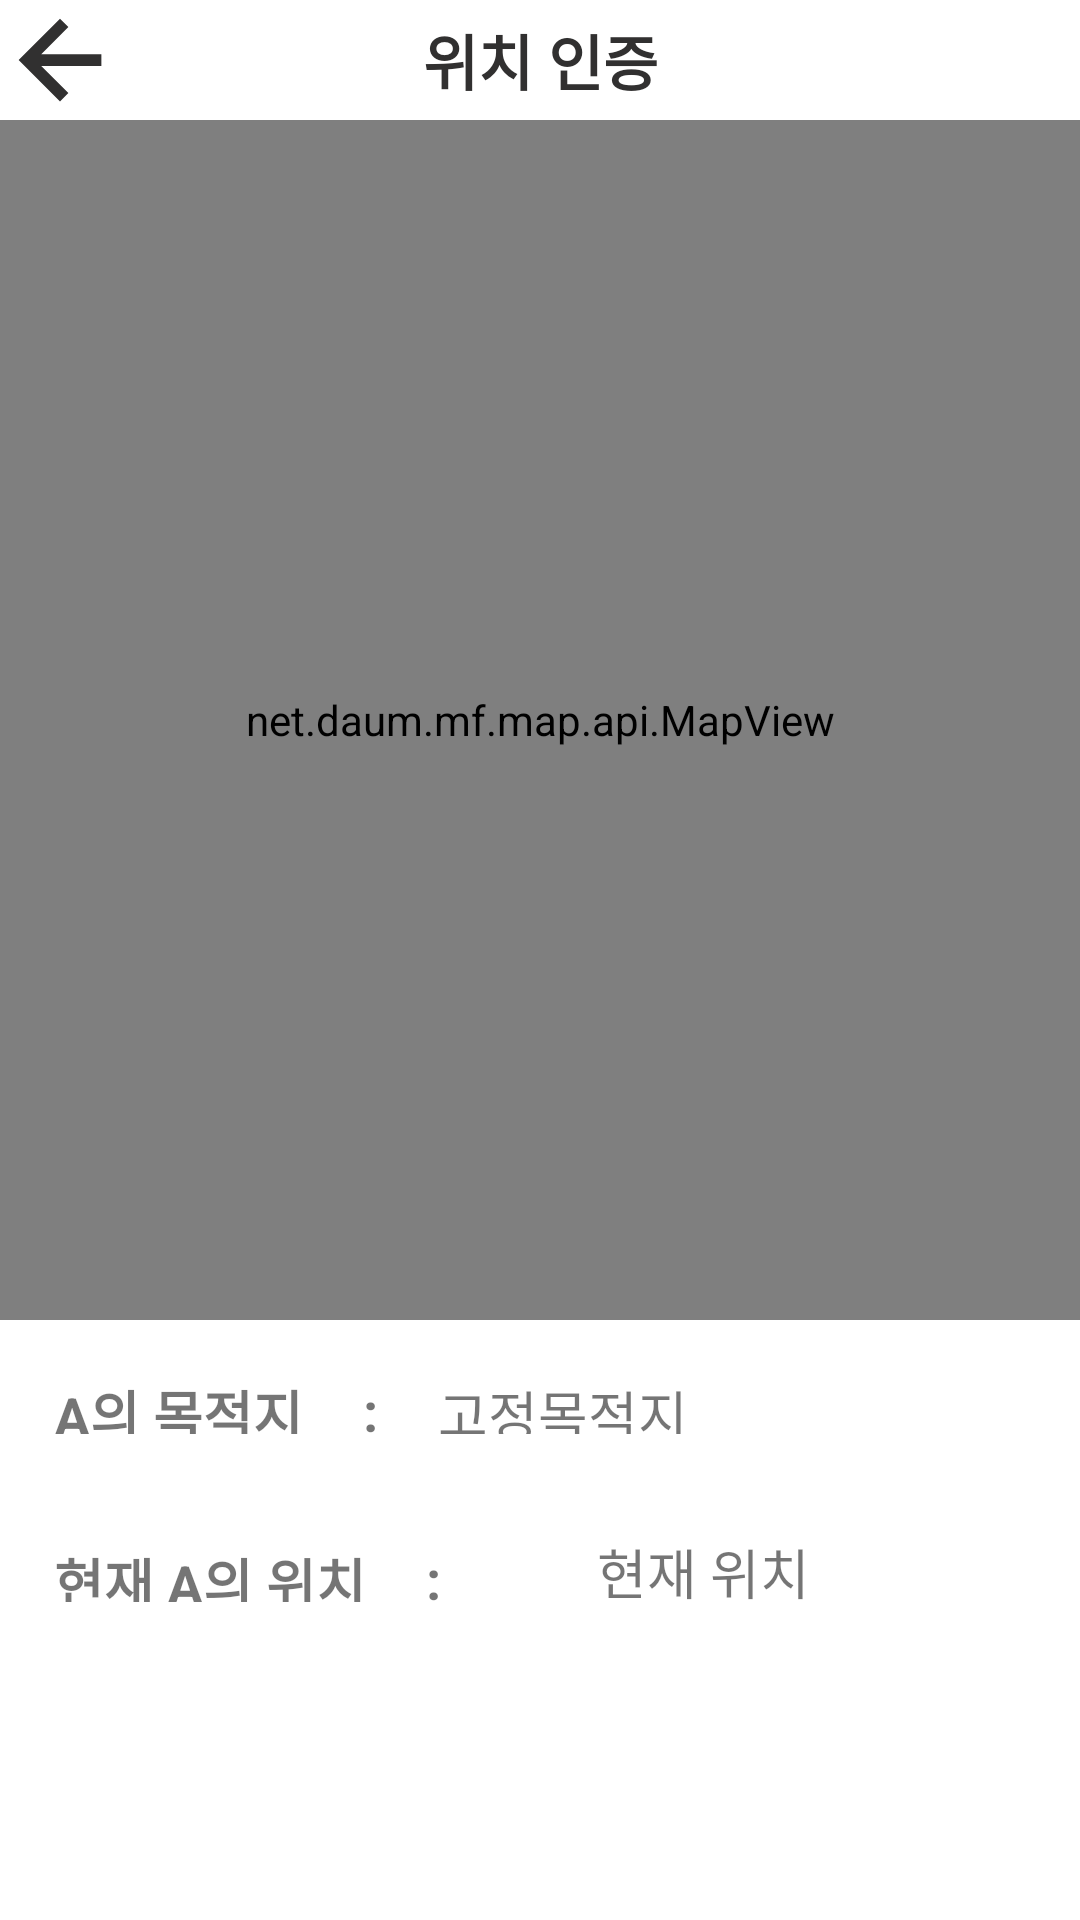

Where to tap for icons on this 1080*1920 app screen, as (x,y):
arrow back: (60,60)
